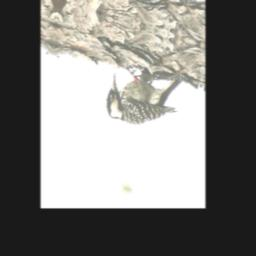Woodpecker: (105, 53, 183, 138)
